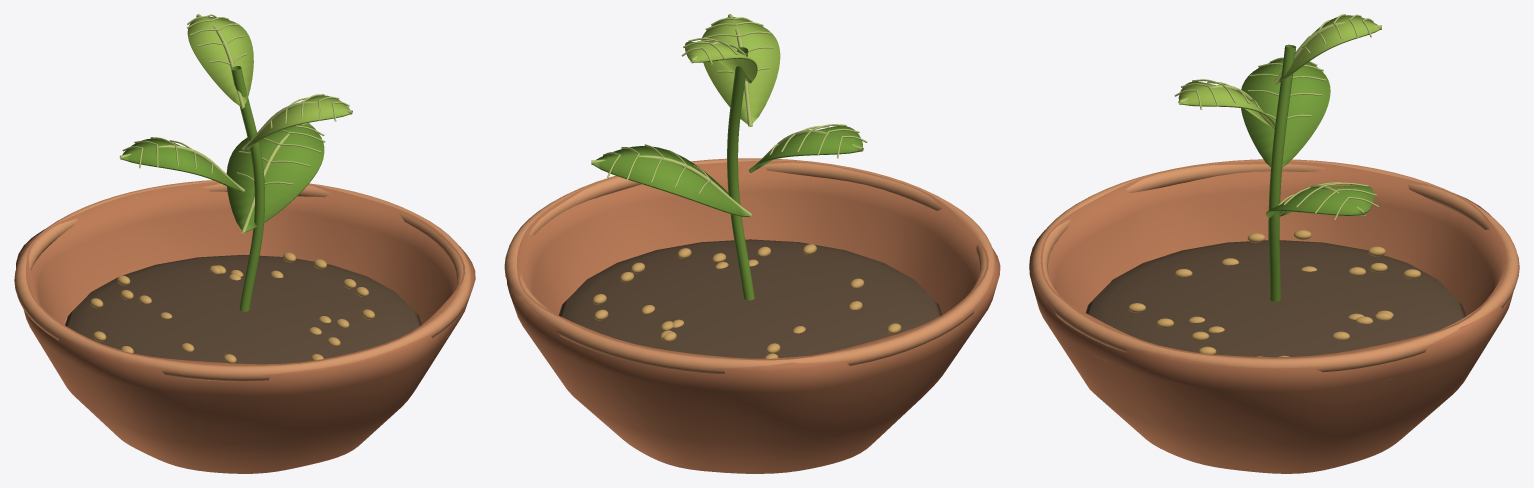
File: clay-b66301c2548e.glb
3 renders of one model, left to right at view 1: azimuth 30°, elevation 25°; view 2: azimuth 150°, elevation 25°; view 3: azimuth 270°, elevation 25°, orthographic. The views are drawn at different scales.
Visible parts, largest first — view 1: Hand formed vessel, Sphere, Torus, Leaf blade, Leaf blade.003, Stem / vein, Leaf blade.001, Leaf blade.002; view 2: Hand formed vessel, Sphere, Torus, Leaf blade, Leaf blade.002, Stem / vein, Leaf blade.001, Leaf blade.003; view 3: Hand formed vessel, Sphere, Torus, Leaf blade.001, Stem / vein, Leaf blade, Leaf blade.003, Leaf blade.002.
Part boxes in pixels (x1,y1,x2,y2): Hand formed vessel: (16, 181, 475, 473); Sphere: (65, 254, 421, 364); Torus: (14, 180, 470, 381); Leaf blade: (226, 123, 324, 232); Leaf blade.003: (187, 16, 253, 107); Stem / vein: (231, 66, 264, 311); Leaf blade.001: (120, 138, 242, 192); Leaf blade.002: (244, 95, 351, 150); Hand formed vessel: (506, 160, 1000, 473); Sphere: (558, 239, 941, 358); Torus: (504, 158, 994, 373); Leaf blade: (593, 146, 748, 216); Leaf blade.002: (701, 16, 780, 126); Stem / vein: (727, 47, 754, 300); Leaf blade.001: (750, 126, 862, 172); Leaf blade.003: (685, 41, 757, 82); Hand formed vessel: (1029, 161, 1513, 473); Sphere: (1085, 240, 1465, 357); Torus: (1032, 159, 1519, 372); Leaf blade.001: (1241, 59, 1330, 167); Stem / vein: (1268, 44, 1296, 301); Leaf blade: (1266, 185, 1374, 217); Leaf blade.003: (1277, 15, 1379, 83); Leaf blade.002: (1178, 81, 1275, 128).
Bounding box in the file's own units: 1.92 × 1.8 × 1.92.
